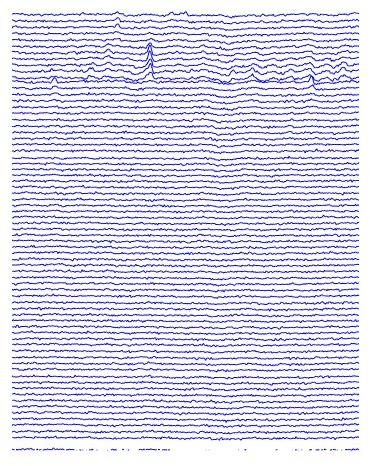defect: (138, 37, 158, 79), (302, 56, 319, 88)
